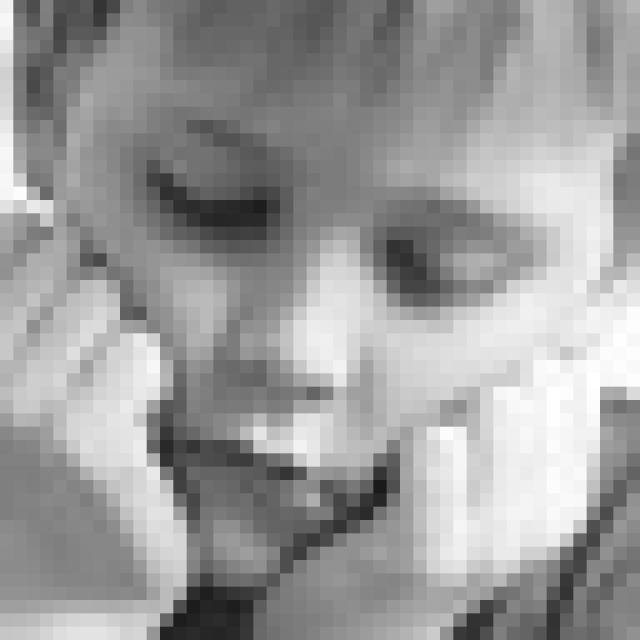sad: (134, 91, 563, 527)
